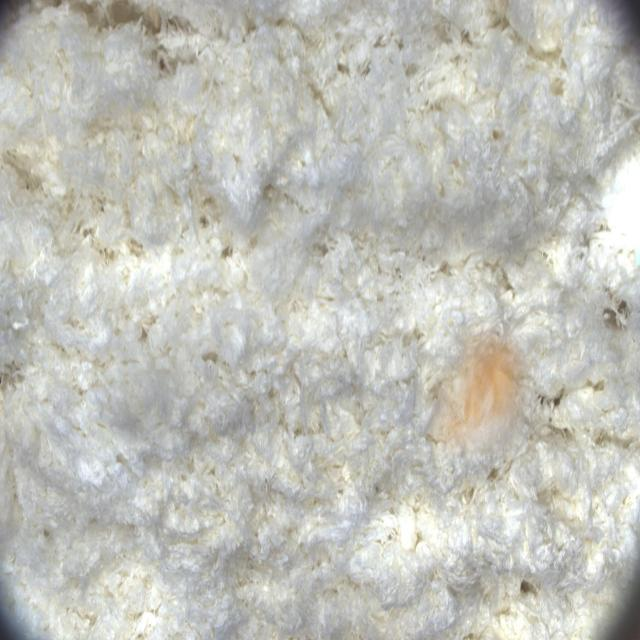dust: (425, 320, 540, 456)
